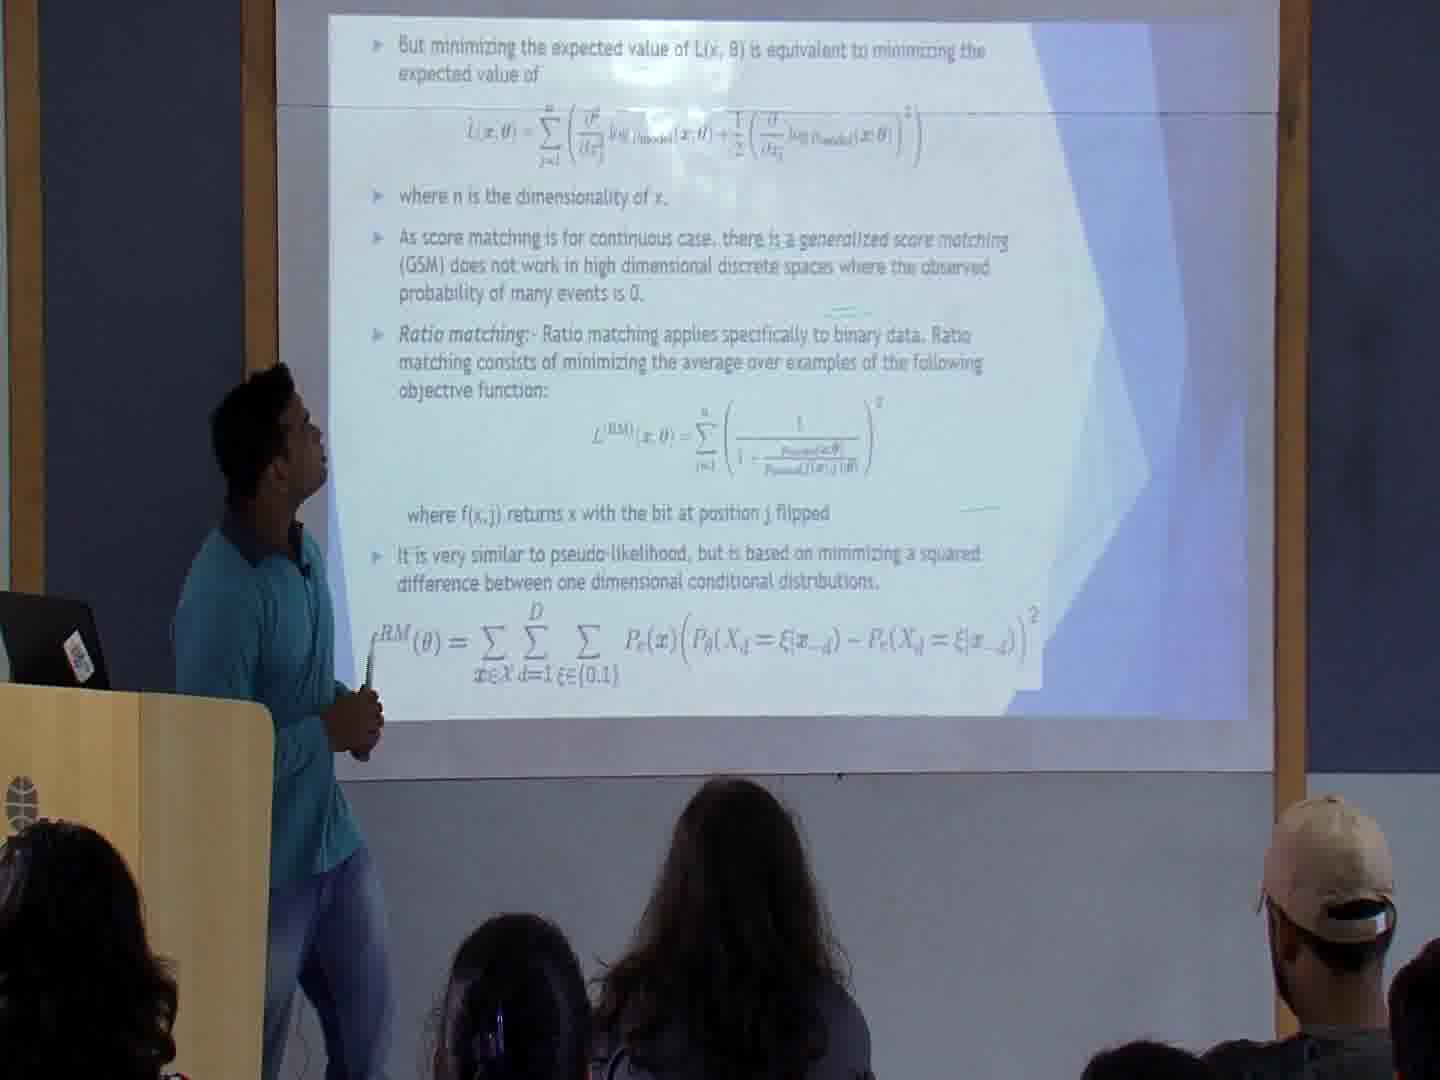eq: (376, 598, 1044, 693), (454, 98, 929, 172), (587, 393, 889, 486)
